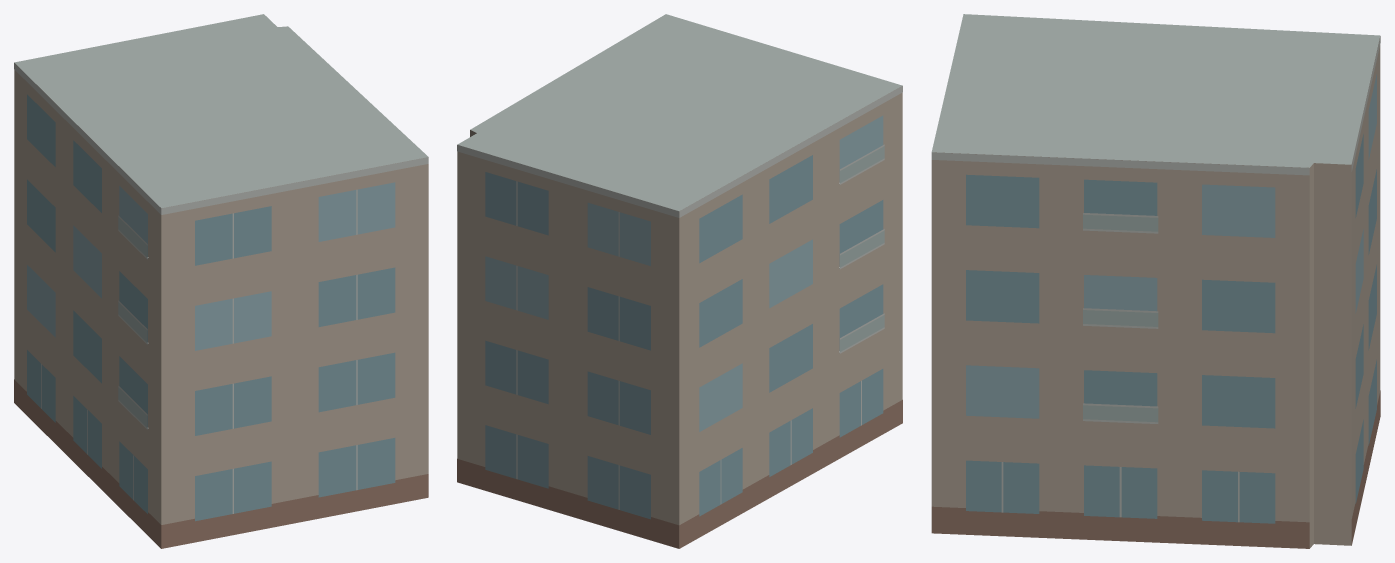
Rendered from survey-upis-32953890.glb.
3 renders of one model, left to right at view 1: azimuth 30°, elevation 25°; view 2: azimuth 150°, elevation 25°; view 3: azimuth 270°, elevation 25°, orthographic. The views are drawn at different scales.
Parts seen in each view (by area): view 1: survey-upis-32953890.tmp; view 2: survey-upis-32953890.tmp; view 3: survey-upis-32953890.tmp.
Boxes of the visible parts, <box> form: survey-upis-32953890.tmp: <box>14,14,428,548</box>; survey-upis-32953890.tmp: <box>457,14,902,548</box>; survey-upis-32953890.tmp: <box>931,14,1380,548</box>.
Size of the model in its own units: 10.57 by 12.2 by 13.03.
